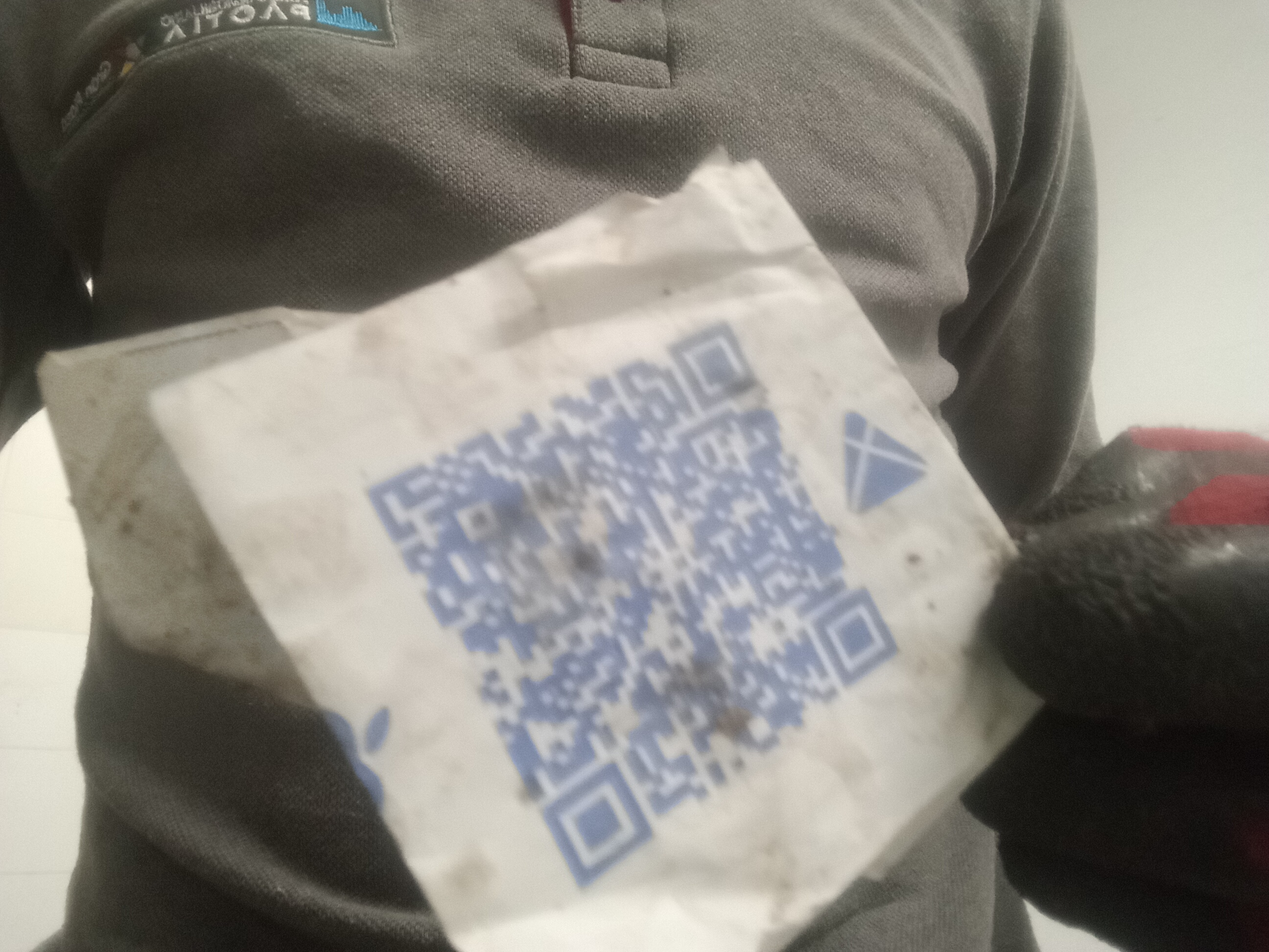Papel: (149, 147, 1045, 952)
